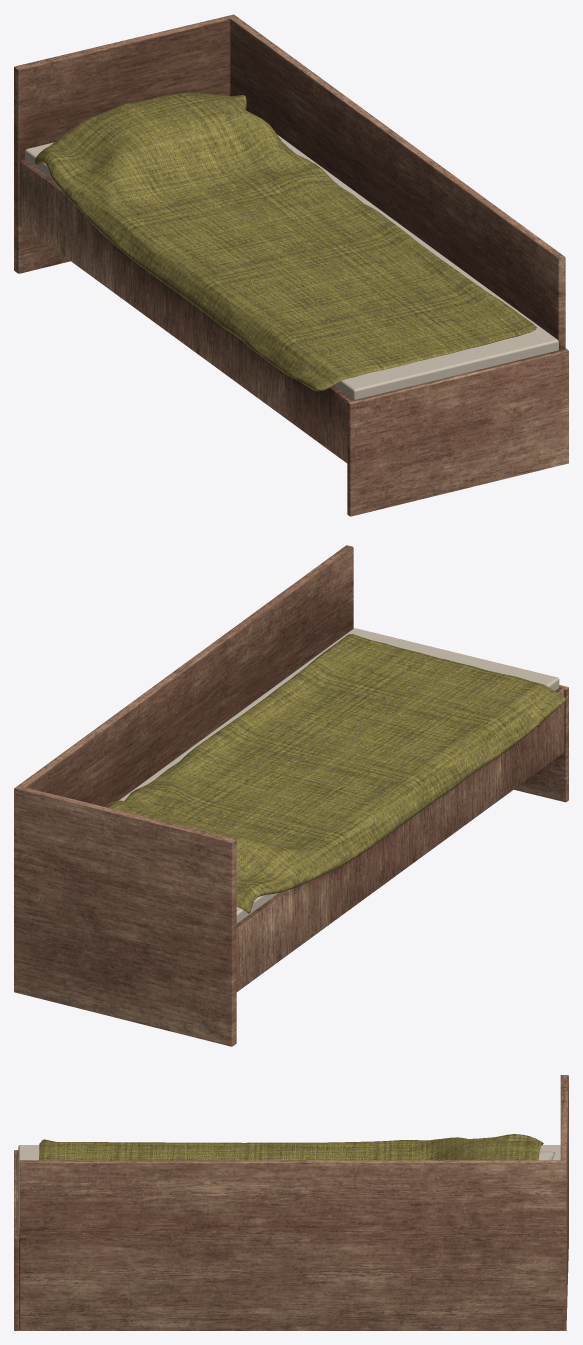
File: bed.glb
3 renders of one model, top to bottom at view 1: azimuth 30°, elevation 25°; view 2: azimuth 150°, elevation 25°; view 3: azimuth 270°, elevation 25°, orthographic. The views are drawn at different scales.
Parts seen in each view (by area): view 1: Cube.001; view 2: Cube.001; view 3: Cube.001.
Part boxes in pixels (x1,y1,x2,y2): Cube.001: (14,14,568,516); Cube.001: (14,545,568,1046); Cube.001: (14,1075,568,1330).
Bounding box in the file's own units: 0.6445 × 0.5349 × 1.6.
1 material, 1 textured.
